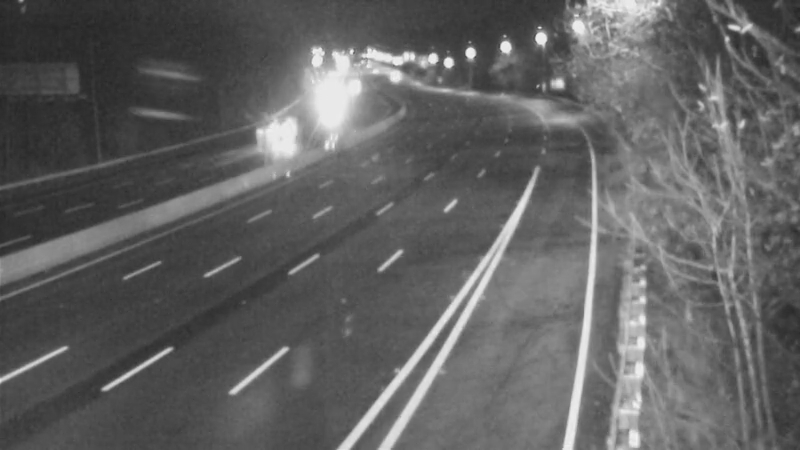vehicle: (366, 53, 416, 103), (249, 106, 299, 156), (299, 90, 349, 140)
